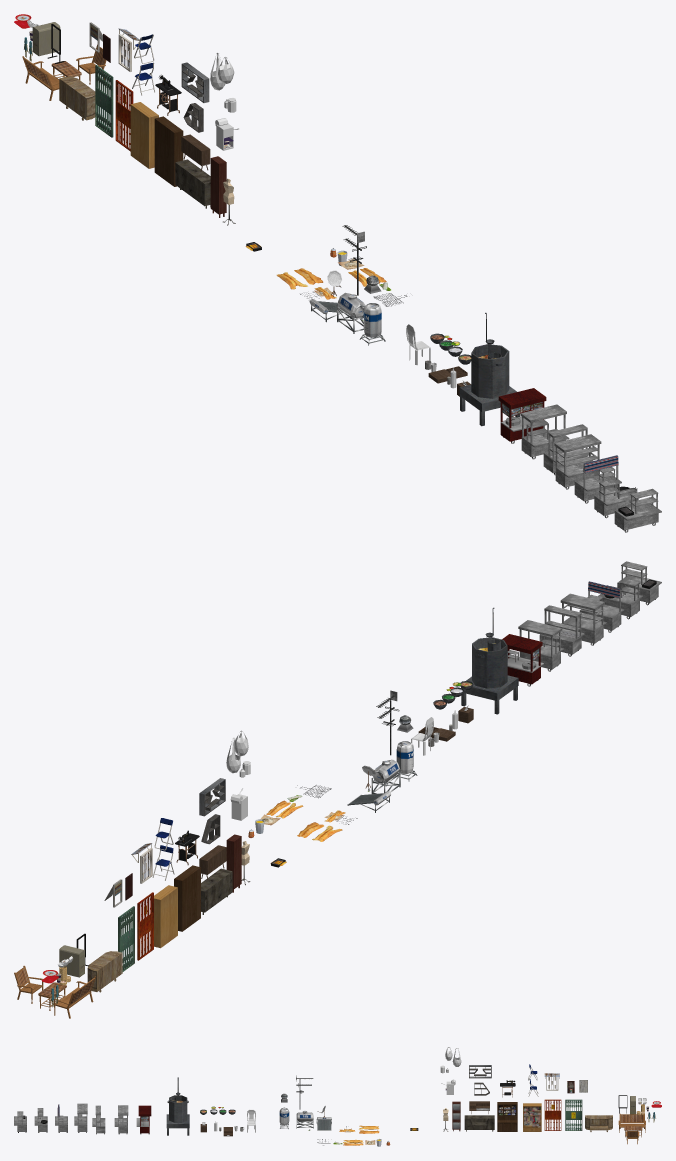
Rendered from Cho.fbx.
3 renders of one model, top to bottom at view 1: azimuth 30°, elevation 25°; view 2: azimuth 150°, elevation 25°; view 3: azimuth 270°, elevation 25°, orthographic. The views are drawn at different scales.
Parts seen in each view (by area): view 1: NoiPho, XeComTam, XeHuTieu, TuChenBat, XePho, Cube.043, XeBunCha, XerBunBo, TuTV3, CuaKeo1, TuTV2, XeChuoiChien (+6 smaller); view 2: NoiPho, XeHuTieu, XeComTam, TuChenBat, Cube.043, XePho, XeTraSua, TuTV3, Cube.053, TuTV2, XerBunBo, XeBunCha (+5 smaller); view 3: NoiPho, TuChenBat, Cube.043, CuaKeo1, Cube.053, TuTV2, TuTV3, GheDai_Sofa, XeHuTieu, XeComTam, XePho, XeTraSua (+10 smaller).
Boxes of the visible parts, x1,y1,x2,y2 form: NoiPho: [459, 344, 520, 426]; XeComTam: [554, 434, 601, 489]; XeHuTieu: [498, 388, 547, 443]; TuChenBat: [154, 116, 183, 186]; XePho: [520, 404, 569, 459]; Cube.043: [130, 102, 158, 168]; XeBunCha: [614, 488, 661, 532]; XerBunBo: [574, 455, 621, 503]; TuTV3: [59, 76, 95, 120]; CuaKeo1: [95, 65, 113, 137]; TuTV2: [175, 159, 210, 208]; XeChuoiChien: [594, 478, 638, 518]; NoiPho: [461, 637, 518, 714]; XeHuTieu: [502, 634, 543, 686]; XeComTam: [560, 593, 606, 645]; TuChenBat: [174, 865, 200, 931]; Cube.043: [154, 885, 177, 948]; XePho: [518, 620, 564, 671]; XeTraSua: [541, 605, 584, 656]; TuTV3: [87, 951, 122, 992]; Cube.053: [137, 892, 153, 960]; TuTV2: [201, 868, 232, 914]; XerBunBo: [579, 581, 624, 632]; XeBunCha: [617, 561, 661, 605]; NoiPho: [166, 1095, 189, 1135]; TuChenBat: [497, 1102, 517, 1131]; Cube.043: [523, 1103, 541, 1131]; CuaKeo1: [565, 1099, 582, 1130]; Cube.053: [544, 1099, 561, 1130]; TuTV2: [464, 1115, 494, 1131]; TuTV3: [585, 1115, 612, 1131]; GheDai_Sofa: [618, 1113, 645, 1132]; XeHuTieu: [136, 1105, 151, 1134]; XeComTam: [74, 1103, 87, 1132]; XePho: [114, 1105, 128, 1134]; XeTraSua: [92, 1105, 105, 1134].
Size of the model in its own units: 2910 by 4939 by 33418.
Materials: 44 (44 with a texture image).
